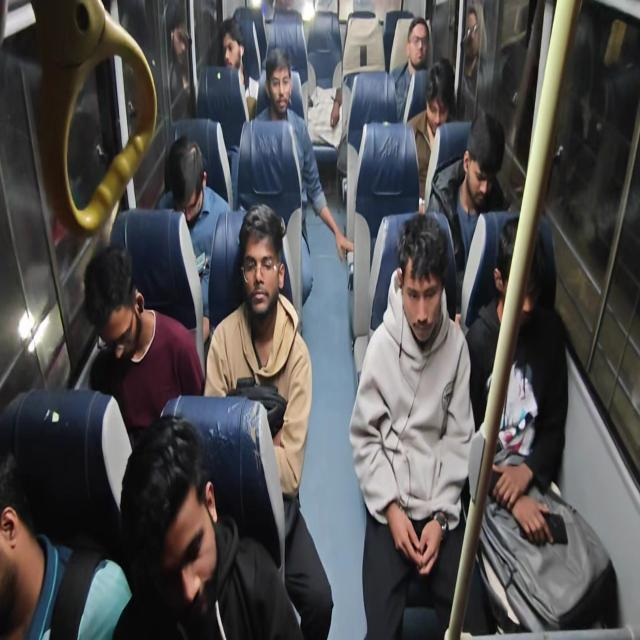person: (111, 408, 235, 613), (76, 237, 148, 363), (0, 417, 42, 633), (396, 216, 455, 352), (238, 196, 288, 330), (492, 218, 542, 342), (458, 106, 503, 225), (164, 132, 205, 226), (264, 42, 304, 130), (422, 61, 458, 142), (219, 18, 248, 80), (409, 18, 433, 75)
